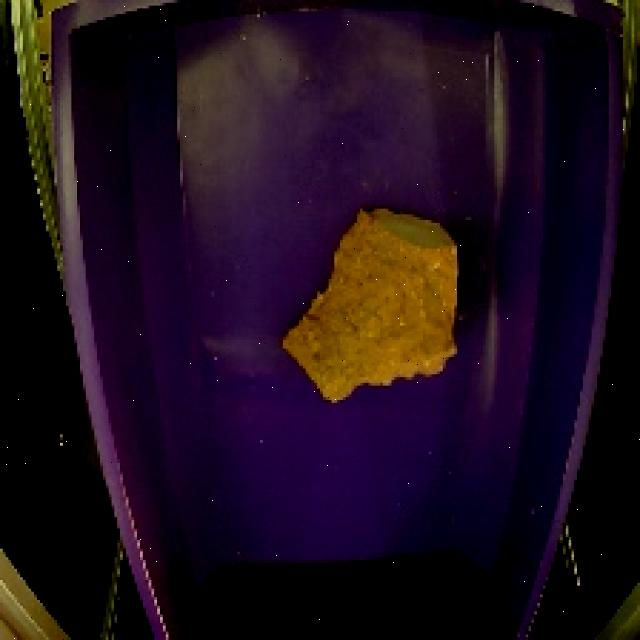brick: (276, 200, 476, 414)
